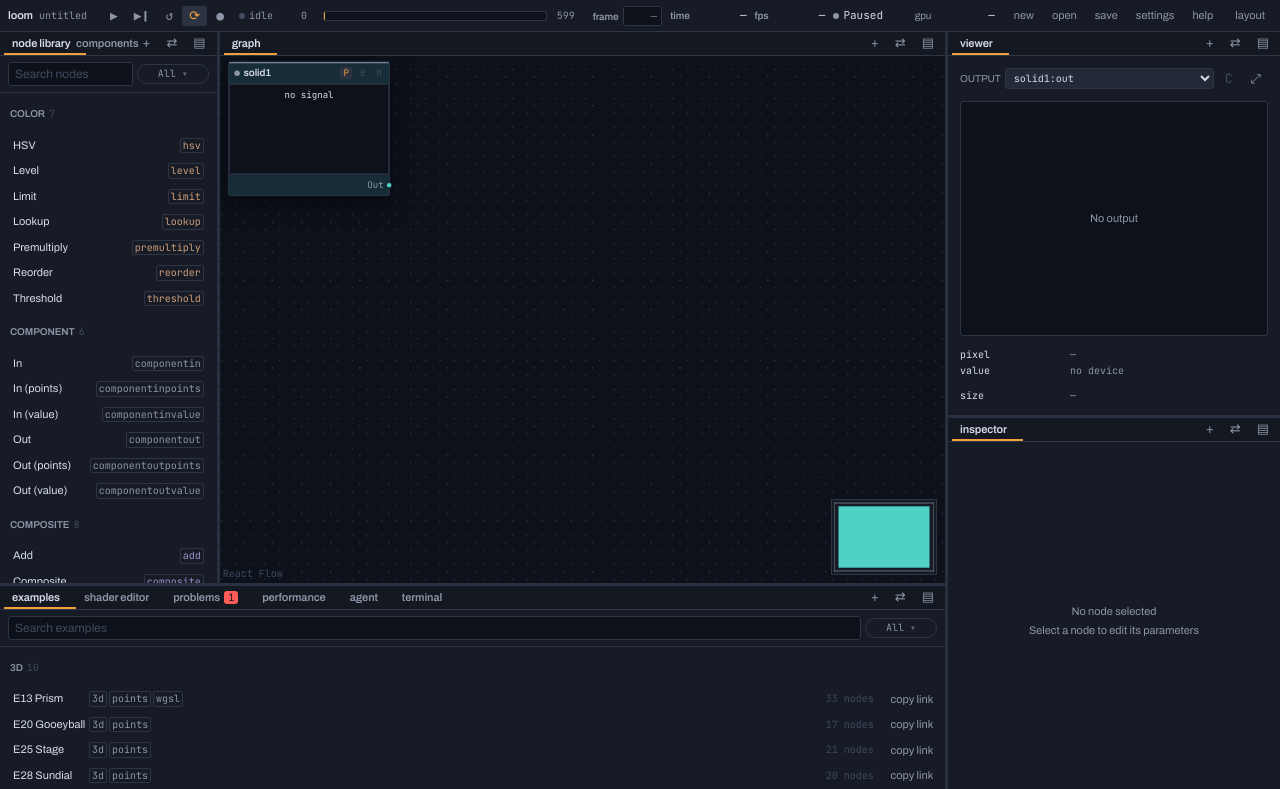
Test: what must NOT take the selection › leaves the human's selection alone when an AGENT adds a node
The image size is (1280, 789).
What coordinates should you click on to do the following:
click the element with class "react-flow__node"
I would click on:
 (309, 129)
Its box is [228,61,390,196].
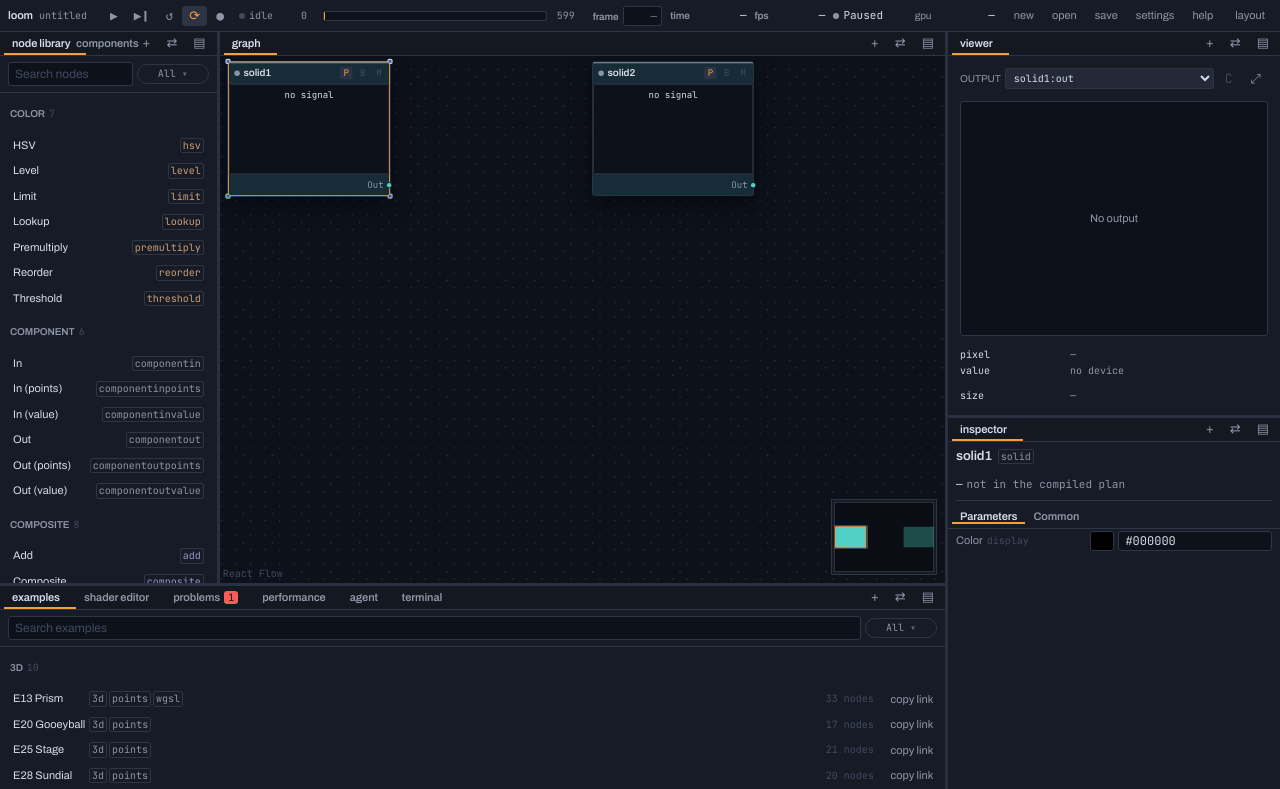
Now the element with class "react-flow__node" showing "solid2 P B M no signal Out" is shown, box [592,61,754,196]
